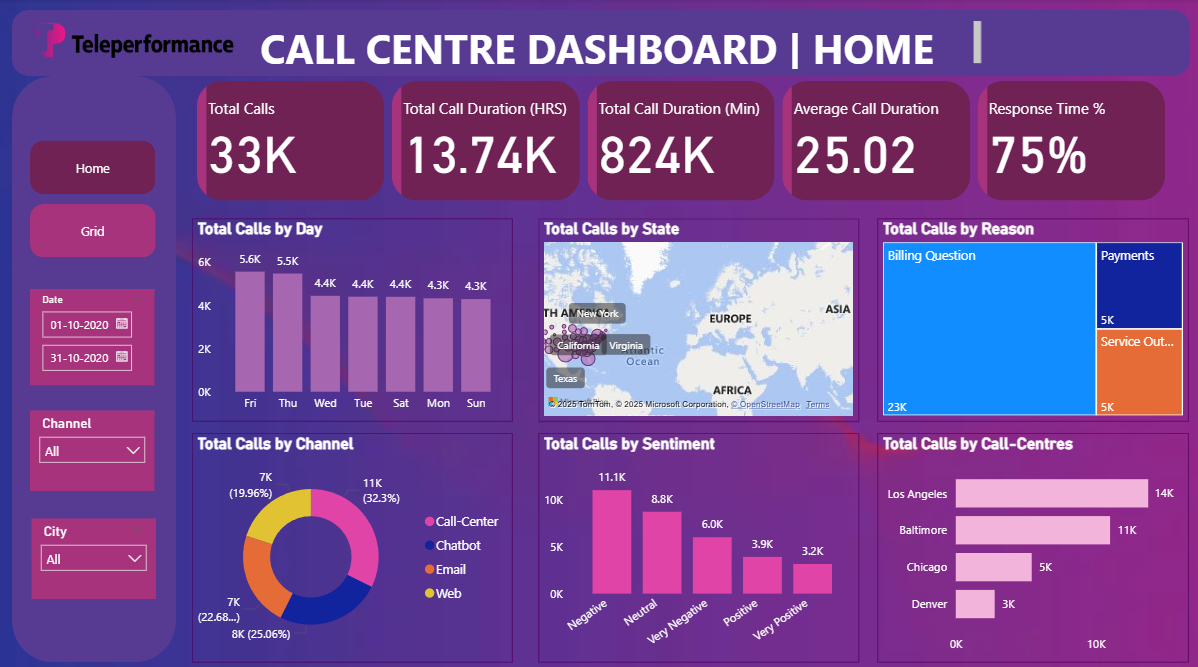

The dashboard page shown, as its layout file describes it:
{"tool":"powerbi","page":{"name":"Home","canvas":[1280,720],"ordinal":0},"visuals":[{"type":"shape","box":[15.1,13.2,1249.1,69.9],"z":0},{"type":"shape","box":[15.1,83.2,173.9,621.7],"z":1000},{"type":"cardVisual","fields":{"Data":["Call Center_Call Center.Total Calls","Call Center_Call Center.Total Call Duration (HRS)","Call Center_Call Center.Total Call Duration","Call Center_Call Center.Average Call Duration","Call Center_Call Center.Response Time %"]},"box":[206,83.2,1039.4,138],"z":2000},{"type":"textbox","box":[232.4,18.9,816.4,60.5],"z":3000},{"type":"columnChart","fields":{"Y":["Call Center_Call Center.Total Calls"],"Category":["Date Table.Day"]},"box":[206.7,233.3,340,215],"z":4000},{"type":"map","fields":{"Category":["Call Center_Call Center.State"],"Size":["Call Center_Call Center.Total Calls"]},"box":[575,233.3,340,215],"z":5000},{"type":"treemap","fields":{"Group":["Call Center_Call Center.Reason"],"Values":["Call Center_Call Center.Total Calls"]},"box":[933.3,233.3,330,215],"z":6000},{"type":"donutChart","fields":{"Category":["Call Center_Call Center.Channel"],"Y":["Call Center_Call Center.Total Calls"]},"box":[206.7,461.7,340,243.3],"z":7000},{"type":"columnChart","fields":{"Category":["Call Center_Call Center.Sentiment"],"Y":["Call Center_Call Center.Total Calls"]},"box":[575,461.7,340,243.3],"z":8000},{"type":"clusteredBarChart","fields":{"Category":["Call Center_Call Center.Call-Centres City"],"Y":["Call Center_Call Center.Total Calls"]},"box":[933.3,461.7,330,243.3],"z":9000},{"type":"slicer","fields":{"Values":["Date Table.Date"]},"box":[35,308.3,131.7,101.7],"z":10000},{"type":"slicer","fields":{"Values":["Call Center_Call Center.Channel"]},"box":[35,436.7,131.7,85],"z":11000},{"type":"slicer","fields":{"Values":["Call Center_Call Center.City"]},"box":[36.7,551.7,131.7,85],"z":12000},{"type":"pageNavigator","box":[35,151.7,133.3,125],"z":12001},{"type":"image","box":[18.3,18.3,250,51.7],"z":12002}]}

Visuals, with their boxes in screenshot pixels (x1, y1, x2, y2), scaled from the page's 1280x720 canvas onto the 1198x667 screenshot:
shape: [left=14, top=12, right=1183, bottom=77]
shape: [left=14, top=77, right=177, bottom=653]
cardVisual - Call Center_Call Center.Total Calls x Call Center_Call Center.Total Call Duration (HRS): [left=193, top=77, right=1166, bottom=205]
textbox: [left=218, top=18, right=982, bottom=74]
columnChart - Call Center_Call Center.Total Calls x Date Table.Day: [left=193, top=216, right=512, bottom=415]
map - Call Center_Call Center.State x Call Center_Call Center.Total Calls: [left=538, top=216, right=856, bottom=415]
treemap - Call Center_Call Center.Reason x Call Center_Call Center.Total Calls: [left=874, top=216, right=1182, bottom=415]
donutChart - Call Center_Call Center.Channel x Call Center_Call Center.Total Calls: [left=193, top=428, right=512, bottom=653]
columnChart - Call Center_Call Center.Sentiment x Call Center_Call Center.Total Calls: [left=538, top=428, right=856, bottom=653]
clusteredBarChart - Call Center_Call Center.Call-Centres City x Call Center_Call Center.Total Calls: [left=874, top=428, right=1182, bottom=653]
slicer - Date Table.Date: [left=33, top=286, right=156, bottom=380]
slicer - Call Center_Call Center.Channel: [left=33, top=405, right=156, bottom=483]
slicer - Call Center_Call Center.City: [left=34, top=511, right=158, bottom=590]
pageNavigator: [left=33, top=141, right=158, bottom=256]
image: [left=17, top=17, right=251, bottom=65]
